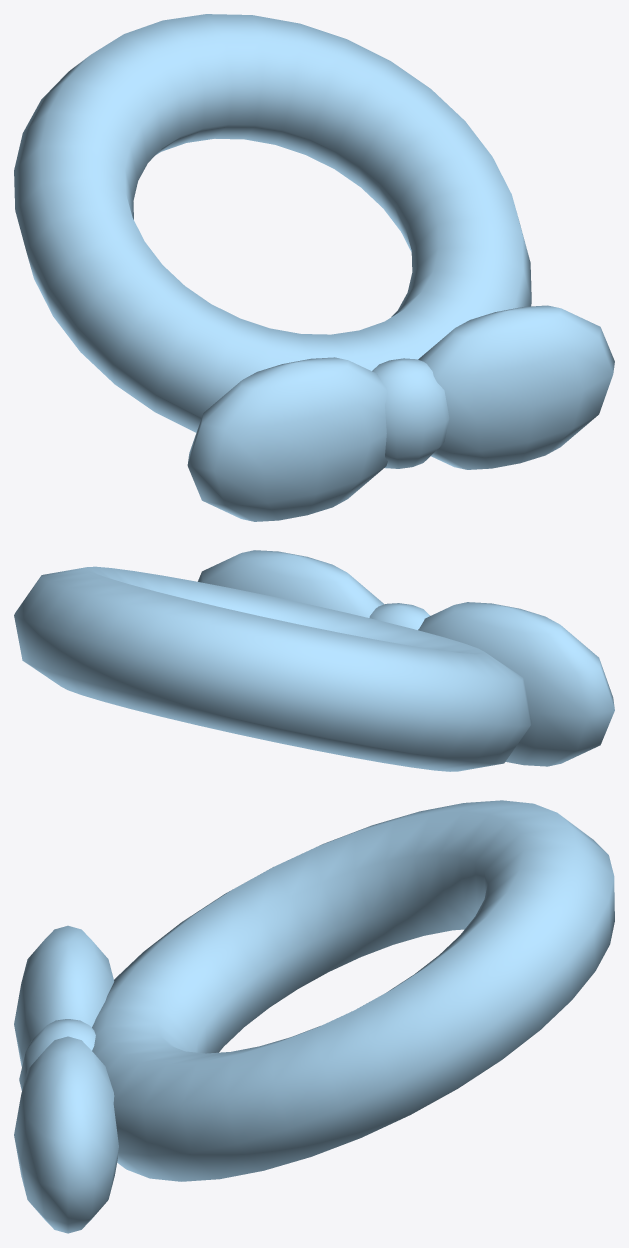
File: fawn_ribbon.glb
The picture shows the model from 3 angles, top to bottom: view 1: azimuth 30°, elevation 25°; view 2: azimuth 150°, elevation 25°; view 3: azimuth 270°, elevation 25°; orthographic projection. The views are drawn at different scales.
Parts seen in each view (by area): view 1: fawn_ribbon; view 2: fawn_ribbon; view 3: fawn_ribbon.
Part boxes in pixels (x1,y1,x2,y2): fawn_ribbon: (14, 14, 614, 521); fawn_ribbon: (14, 550, 614, 771); fawn_ribbon: (14, 800, 614, 1233).
Size of the model in its own units: 0.65 by 0.4057 by 0.7018.
